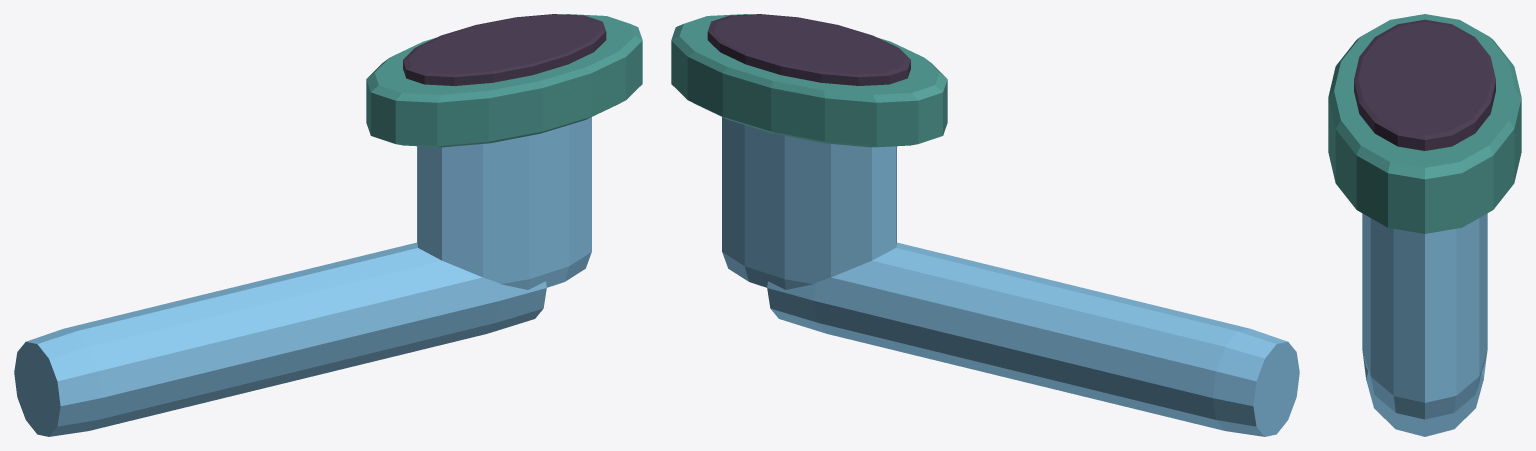
Rendered from water_pipe.glb.
The picture shows the model from 3 angles, left to right: view 1: azimuth 30°, elevation 25°; view 2: azimuth 150°, elevation 25°; view 3: azimuth 270°, elevation 25°; orthographic projection. The views are drawn at different scales.
Parts seen in each view (by area): view 1: model; view 2: model; view 3: model.
Part boxes in pixels (x1,y1,x2,y2): model: [14, 14, 642, 436]; model: [671, 14, 1299, 436]; model: [1328, 14, 1521, 436].
Bounding box in the file's own units: 0.9 × 0.4 × 0.2.
